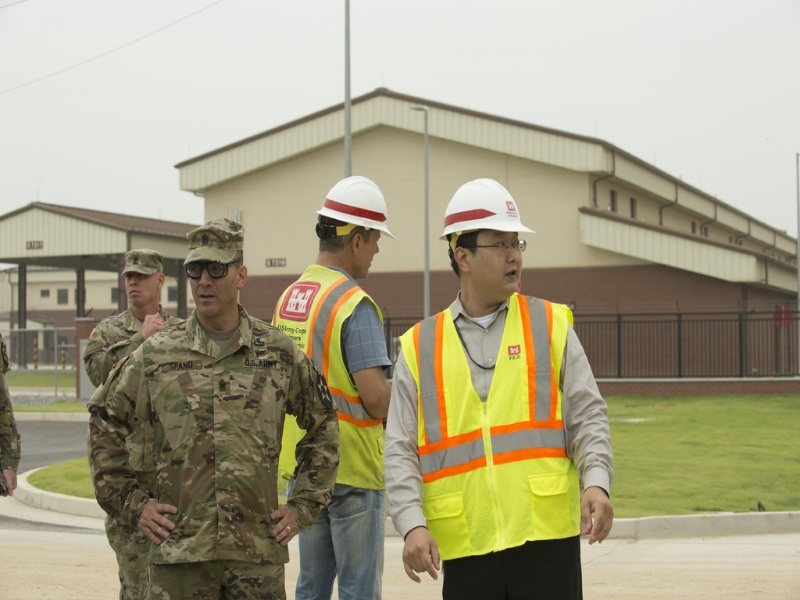Baret: (441, 176, 536, 234), (317, 175, 393, 236)
